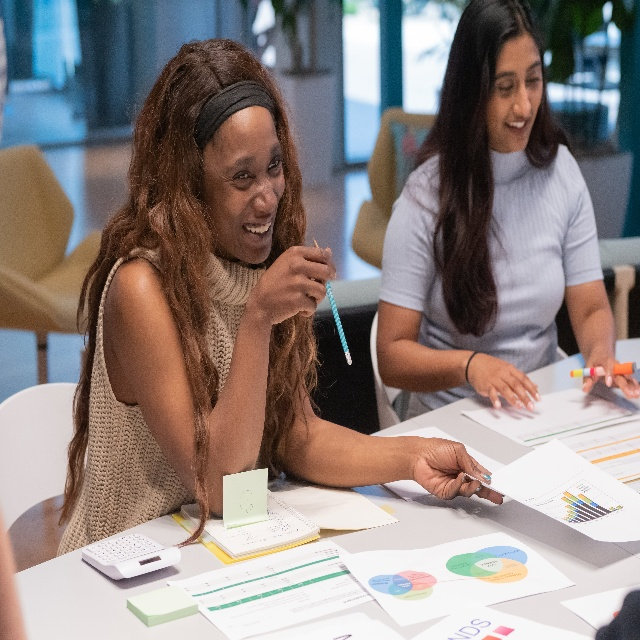Sin_guantes: (248, 244, 337, 331), (414, 437, 504, 505), (467, 354, 541, 413), (581, 349, 640, 401)
